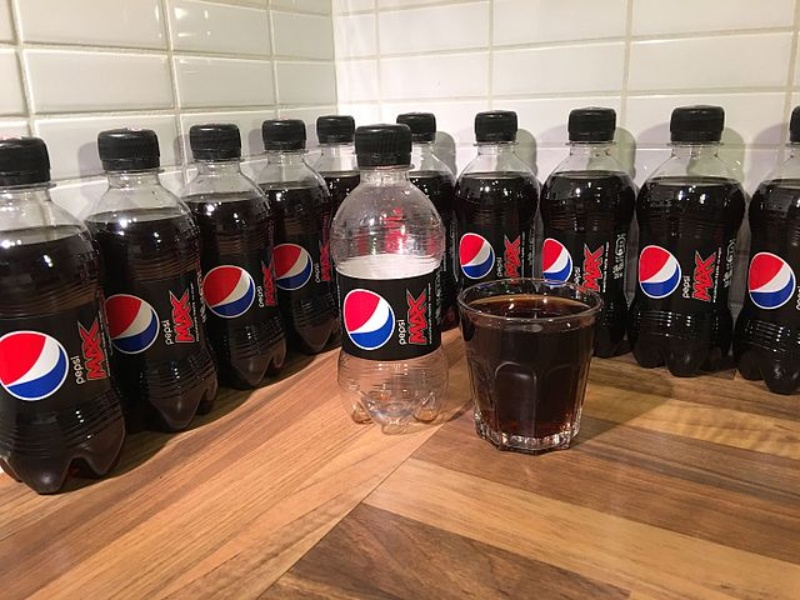Plastic bottle: (9, 127, 160, 511), (67, 121, 238, 448), (313, 118, 467, 445), (162, 108, 299, 396), (625, 71, 740, 401), (236, 96, 345, 367), (543, 93, 644, 351), (732, 74, 800, 430), (446, 102, 550, 331)
